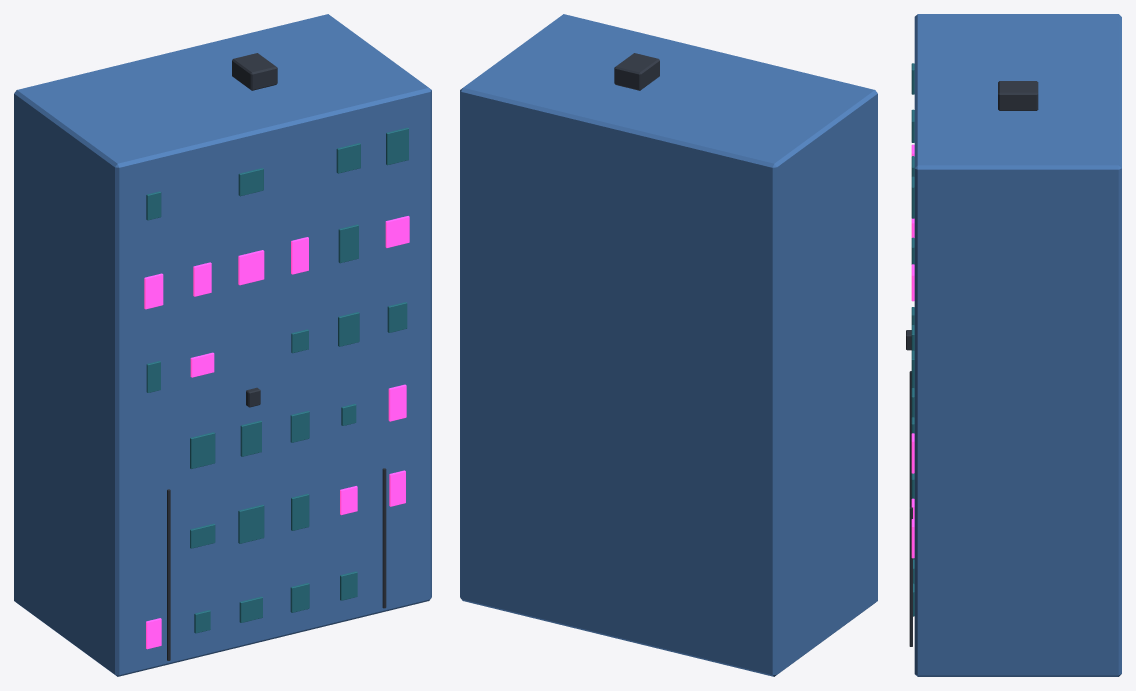
The model's file is building_030_seed11.glb.
3 views of the same model, side by side, from view 1: azimuth 30°, elevation 25°; view 2: azimuth 150°, elevation 25°; view 3: azimuth 270°, elevation 25° (orthographic).
Visible parts, largest first — view 1: building_030_seed11; view 2: building_030_seed11; view 3: building_030_seed11.
Part boxes in pixels (bbox=[...]): building_030_seed11: bbox=[14, 14, 431, 676]; building_030_seed11: bbox=[460, 14, 877, 676]; building_030_seed11: bbox=[906, 14, 1121, 676].
Size of the model in its own units: 9.01 by 14.44 by 5.33.
